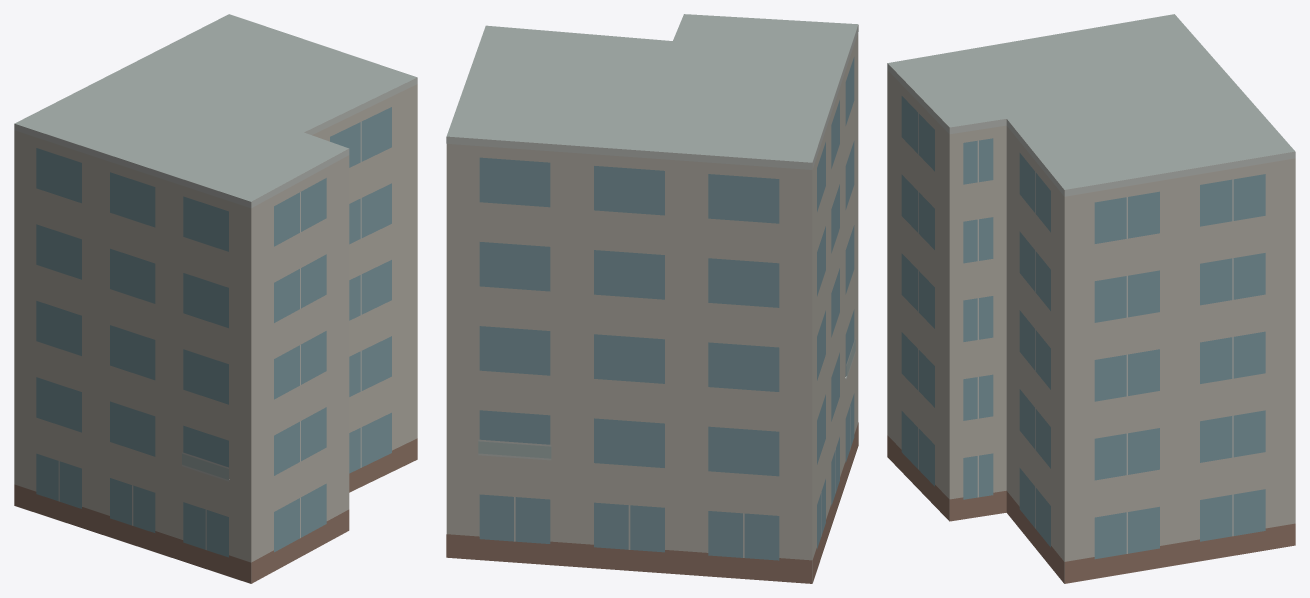
Rendered from survey-upis-33021102.glb.
3 views of the same model, side by side, from view 1: azimuth 30°, elevation 25°; view 2: azimuth 150°, elevation 25°; view 3: azimuth 270°, elevation 25° (orthographic). The views are drawn at different scales.
Visible parts, largest first — view 1: survey-upis-33021102.tmp; view 2: survey-upis-33021102.tmp; view 3: survey-upis-33021102.tmp.
Part boxes in pixels (x1,y1,x2,y2): survey-upis-33021102.tmp: (14,14,417,583); survey-upis-33021102.tmp: (446,14,858,583); survey-upis-33021102.tmp: (887,14,1295,583).
Size of the model in its own units: 13.62 by 14.2 by 13.34.
